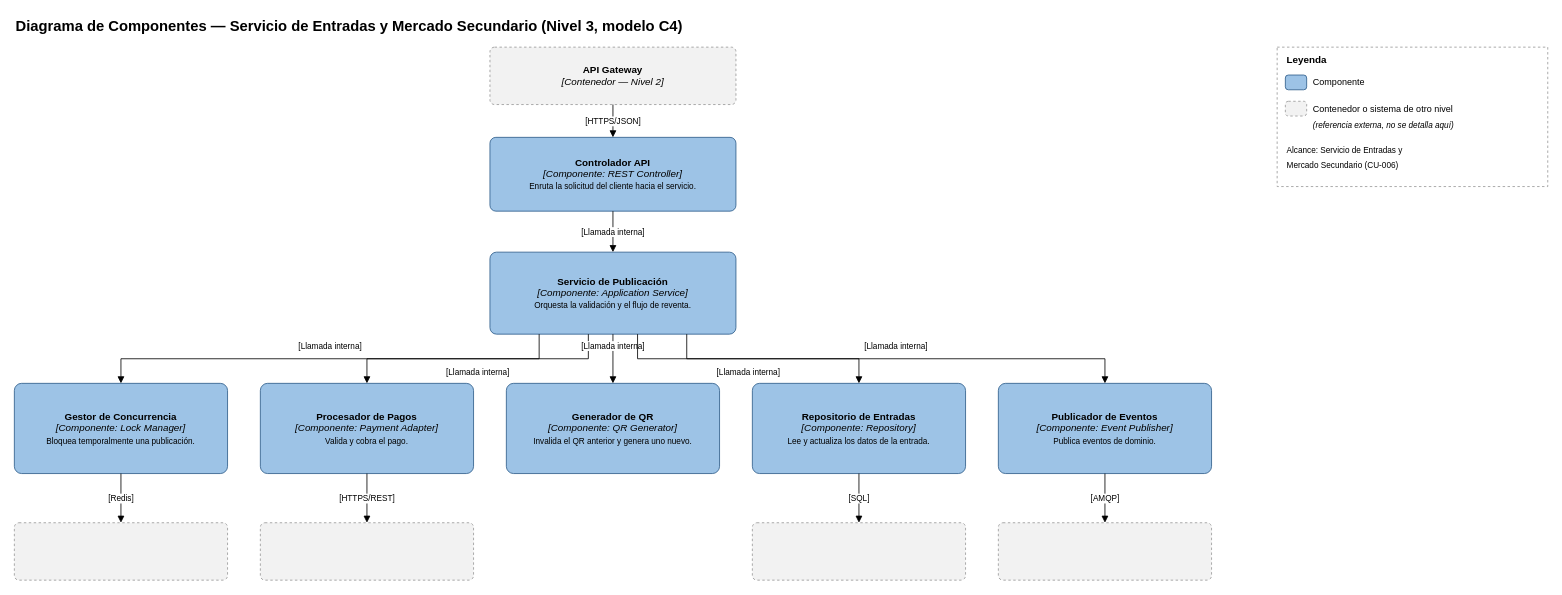
Some shapes in this 1562 by 595 pixel diagram are drawn without their labels. Here are the shapes that lost their labels. From the top down, the centre of each, then its label:
At point (121, 551): "Redis [Infraestructura — Nivel 2]".
At point (367, 551): "Pasarela de Pagos [Sistema externo]".
At point (859, 551): "Base de Datos [Infraestructura — Nivel 2]".
At point (1105, 551): "Cola de Mensajes [Infraestructura — Nivel 2]".
